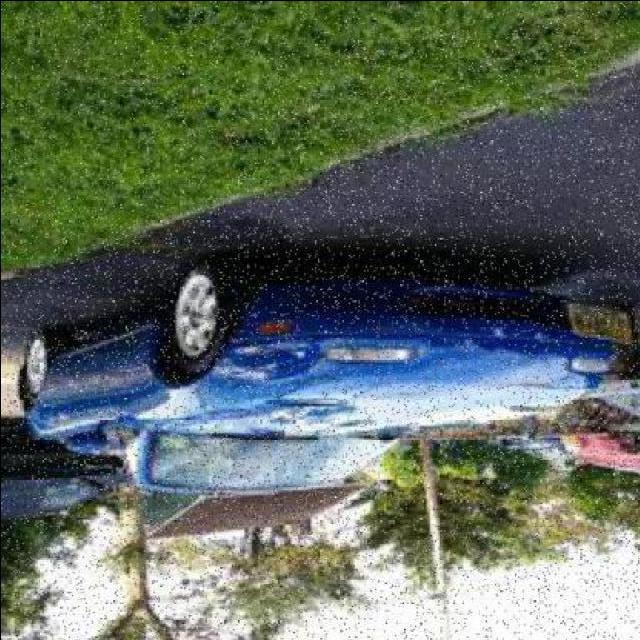fender-dent: (145, 301, 321, 412)
